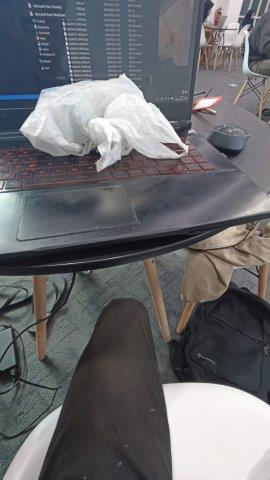plastik: (21, 74, 187, 171)
